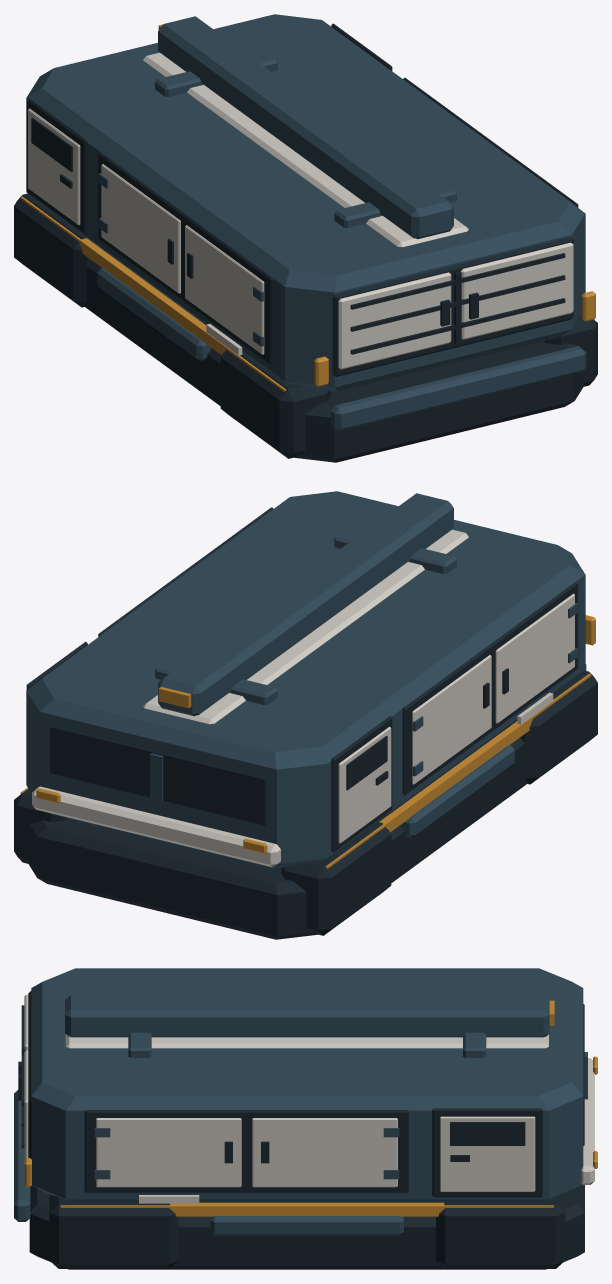
Rendered from cv-rail-van.glb.
3 renders of one model, top to bottom at view 1: azimuth 30°, elevation 25°; view 2: azimuth 150°, elevation 25°; view 3: azimuth 270°, elevation 25°, orthographic. The views are drawn at different scales.
Parts seen in each view (by area): view 1: cv-rail-van; view 2: cv-rail-van; view 3: cv-rail-van.
Part boxes in pixels (<box>): cv-rail-van: <box>14,14,597,462</box>; cv-rail-van: <box>14,491,597,939</box>; cv-rail-van: <box>14,968,597,1269</box>.
Bounding box in the file's own units: 2 × 1.3 × 3.4.
